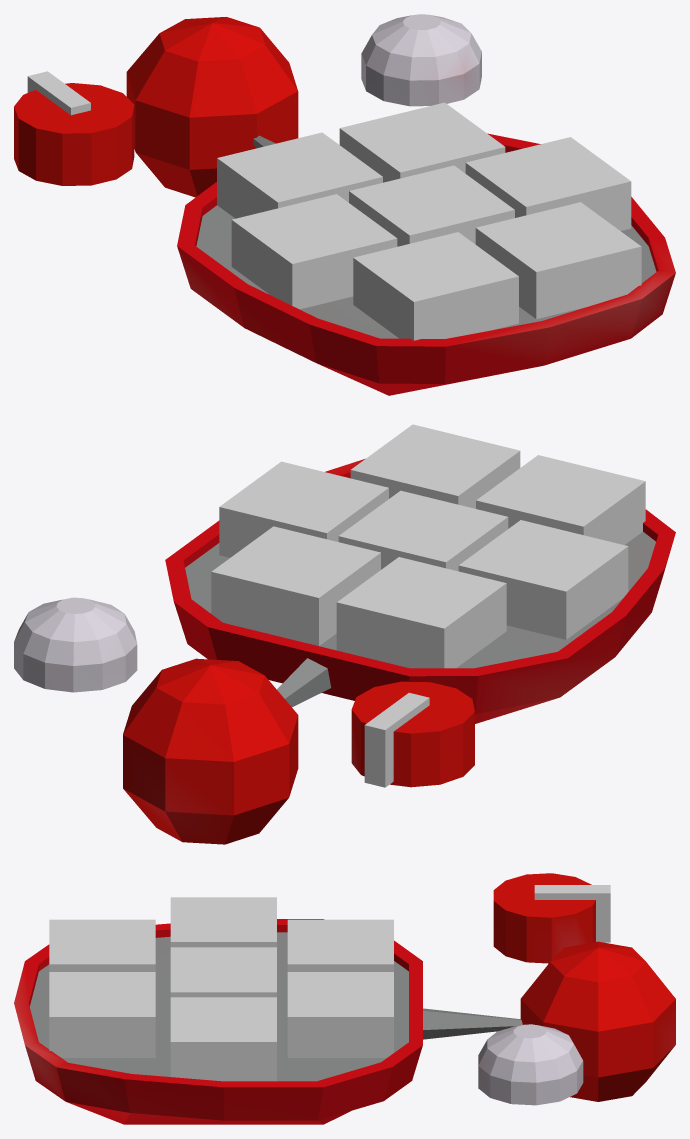
Rendered from controller.glb.
3 views of the same model, one above another, from view 1: azimuth 30°, elevation 25°; view 2: azimuth 150°, elevation 25°; view 3: azimuth 270°, elevation 25° (orthographic). The views are drawn at different scales.
Visible parts, largest first — view 1: body, emitter, Button6, Button7, Button3, RotativeModel, ColorModel, Button5, Button1, Button4, Button2; view 2: body, emitter, Button1, Button2, Button3, RotativeModel, Button6, ColorModel, Button5, Button7, Button4; view 3: body, emitter, Button2, Button7, Button5, RotativeModel, ColorModel, Button6, Button1, Button3, Button4.
Boxes of the visible parts, x1,y1,x2,y2 form: body: (177,133,675,395); emitter: (126,17,298,197); Button6: (353,232,518,340); Button7: (475,202,641,319); Button3: (231,194,397,309); RotativeModel: (14,71,134,185); ColorModel: (361,14,481,106); Button5: (465,137,631,230); Button1: (217,132,382,218); Button4: (349,165,514,246); Button2: (339,102,505,182); body: (165,458,675,723); emitter: (123,658,298,844); Button1: (336,557,506,668); Button2: (211,526,380,645); Button3: (458,520,628,639); RotativeModel: (351,681,474,787); Button6: (476,455,645,544); ColorModel: (14,597,137,692); Button5: (219,461,388,557); Button7: (350,424,520,508); Button4: (338,490,508,571); body: (14,919,522,1124); emitter: (520,941,675,1101); Button2: (287,972,393,1057); Button7: (49,972,155,1057); Button5: (170,997,276,1081); RotativeModel: (493,873,610,963); ColorModel: (478,1024,583,1105); Button6: (49,919,155,971); Button1: (287,919,393,971); Button3: (170,897,276,947); Button4: (170,947,276,997).
Size of the model in its own units: 0.6577 by 0.2399 by 0.9715.
